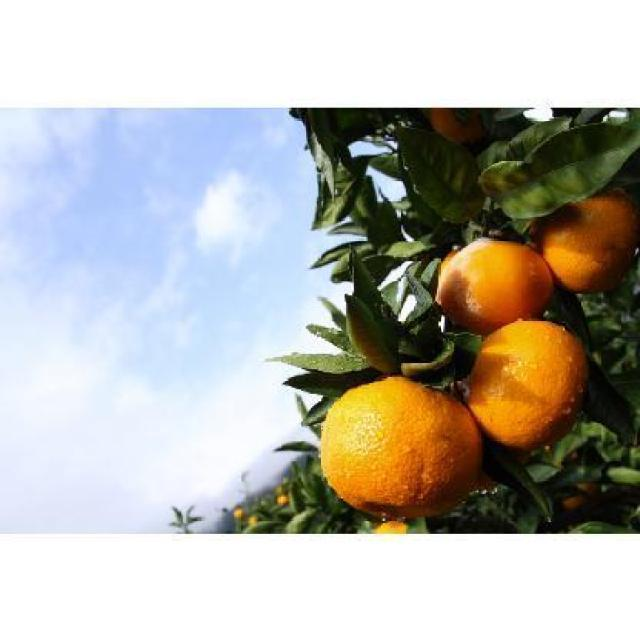Orange: (319, 376, 481, 513), (468, 314, 584, 443), (433, 236, 549, 330), (538, 189, 637, 285), (426, 106, 479, 140)
